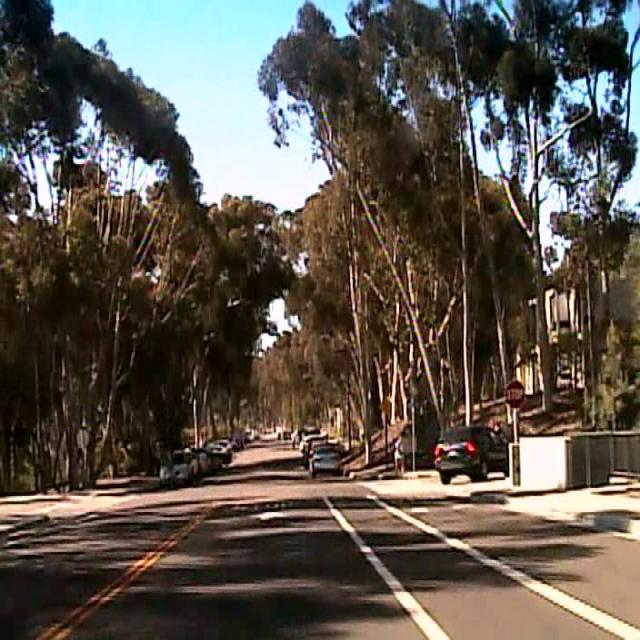stop: (504, 379, 524, 409)
